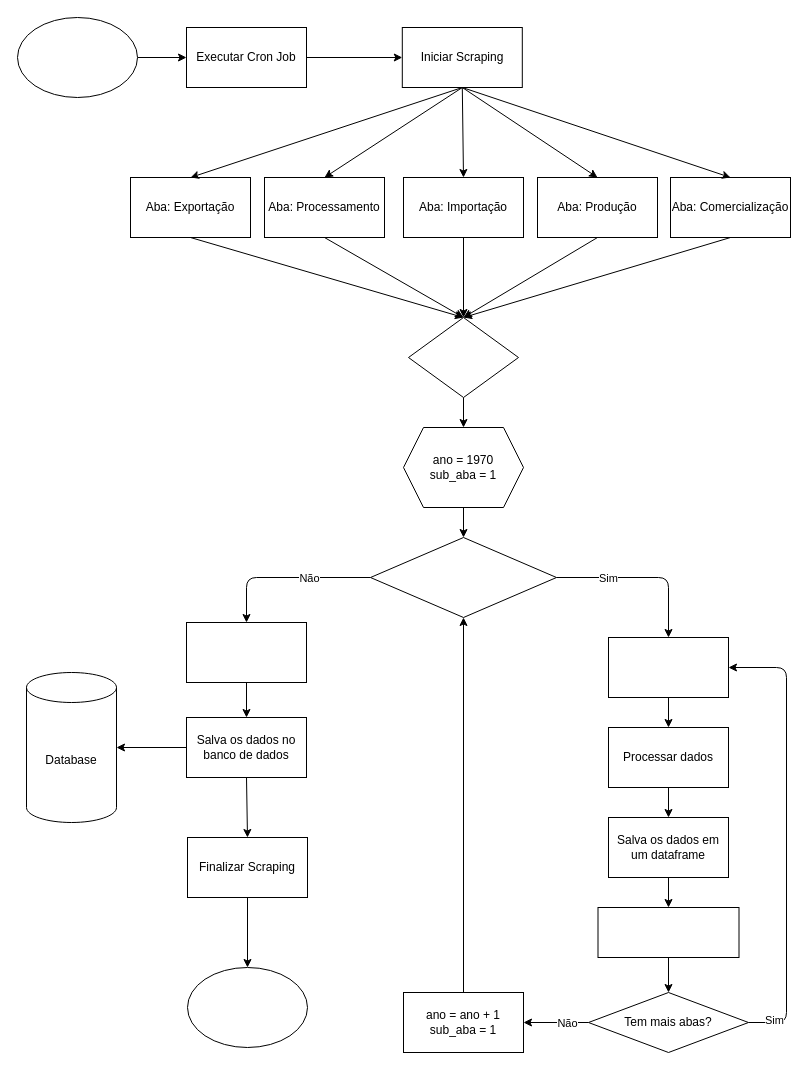
This 812x1070 diagram has some shape labels left out. The centre of each missing label's shape, as x and y in pixels:
Acessa o site no ano atual e na sub aba: (668,667)
Acessar Aba: (463,357)
ano <= 2023: (463,577)
Fim: (247,1007)
Inicio: (77,57)
Retorna os dados do dataframe: (246,652)
sub_aba = sub_aba + 1: (668,932)
